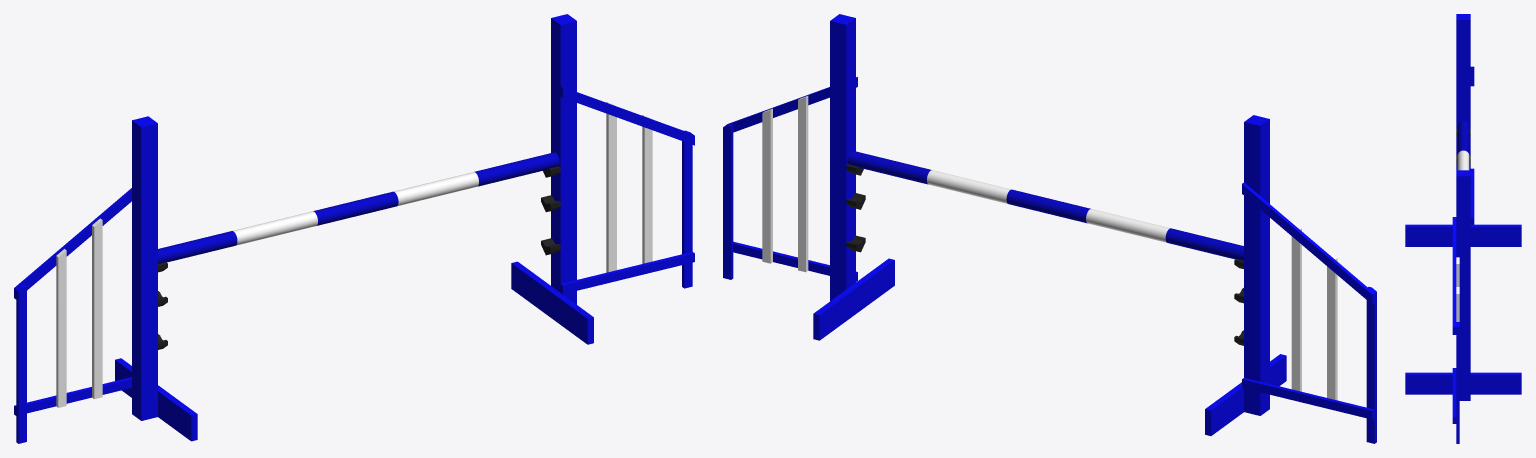
The model's file is Over-1.dae.
The picture shows the model from 3 angles, left to right: view 1: azimuth 30°, elevation 25°; view 2: azimuth 150°, elevation 25°; view 3: azimuth 270°, elevation 25°; orthographic projection. The views are drawn at different scales.
Visible parts, largest first — view 1: Side (×6), polesection (×3), polesection_1 (×2); view 2: Side (×6), polesection (×3), polesection_1 (×2); view 3: Side (×3), polesection, polesection_1.
Boxes of the visible parts, left/top/right/bottom form: Side (×6): left=14, top=14, right=694, bottom=443; polesection (×3): left=158, top=152, right=559, bottom=263; polesection_1 (×2): left=232, top=172, right=478, bottom=245; Side (×6): left=723, top=14, right=1376, bottom=443; polesection (×3): left=847, top=150, right=1243, bottom=260; polesection_1 (×2): left=927, top=170, right=1169, bottom=242; Side (×3): left=1405, top=14, right=1521, bottom=443; polesection: left=1457, top=120, right=1469, bottom=154; polesection_1: left=1457, top=150, right=1469, bottom=170.
Size of the model in its own units: 79.49 by 15.75 by 33.46.
